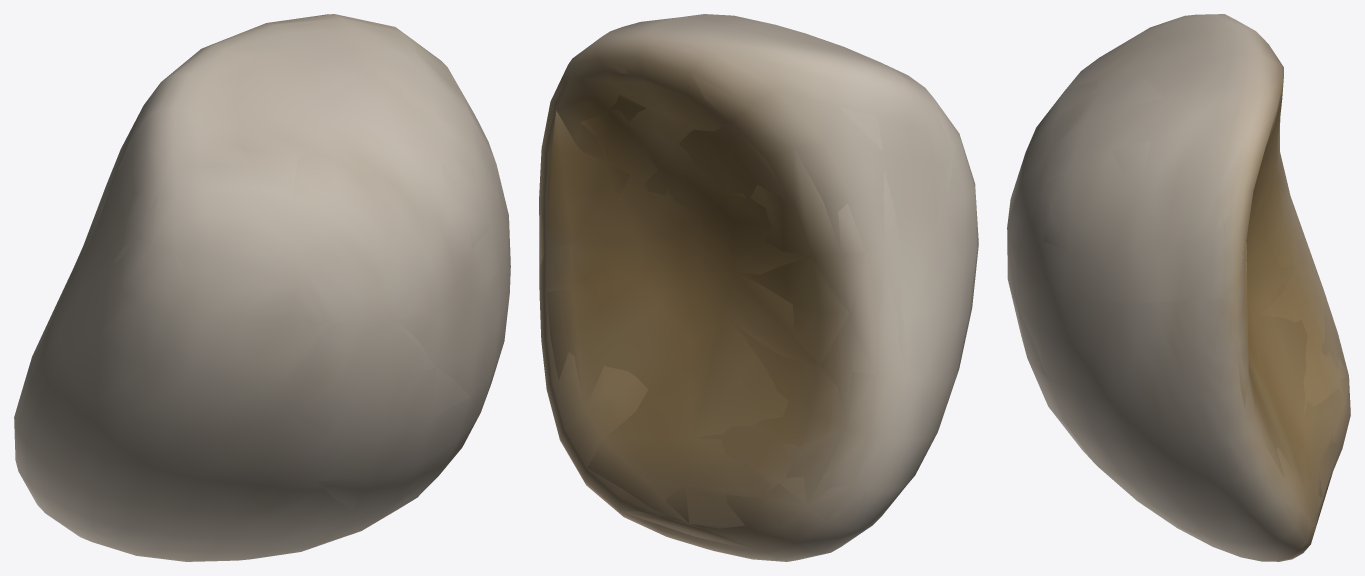
The model's file is R Patella.fbx.
3 renders of one model, left to right at view 1: azimuth 30°, elevation 25°; view 2: azimuth 150°, elevation 25°; view 3: azimuth 270°, elevation 25°, orthographic. The views are drawn at different scales.
Visible parts, largest first — view 1: R Patella, R Patella low; view 2: R Patella, R Patella low; view 3: R Patella, R Patella low.
Boxes of the visible parts, left/top/right/bottom form: R Patella: left=14, top=14, right=510, bottom=561; R Patella low: left=17, top=14, right=496, bottom=560; R Patella: left=539, top=14, right=978, bottom=561; R Patella low: left=539, top=14, right=978, bottom=558; R Patella: left=1007, top=14, right=1350, bottom=561; R Patella low: left=1007, top=34, right=1350, bottom=561.
Bounding box in the file's own units: 2.23 × 2.61 × 1.67.
